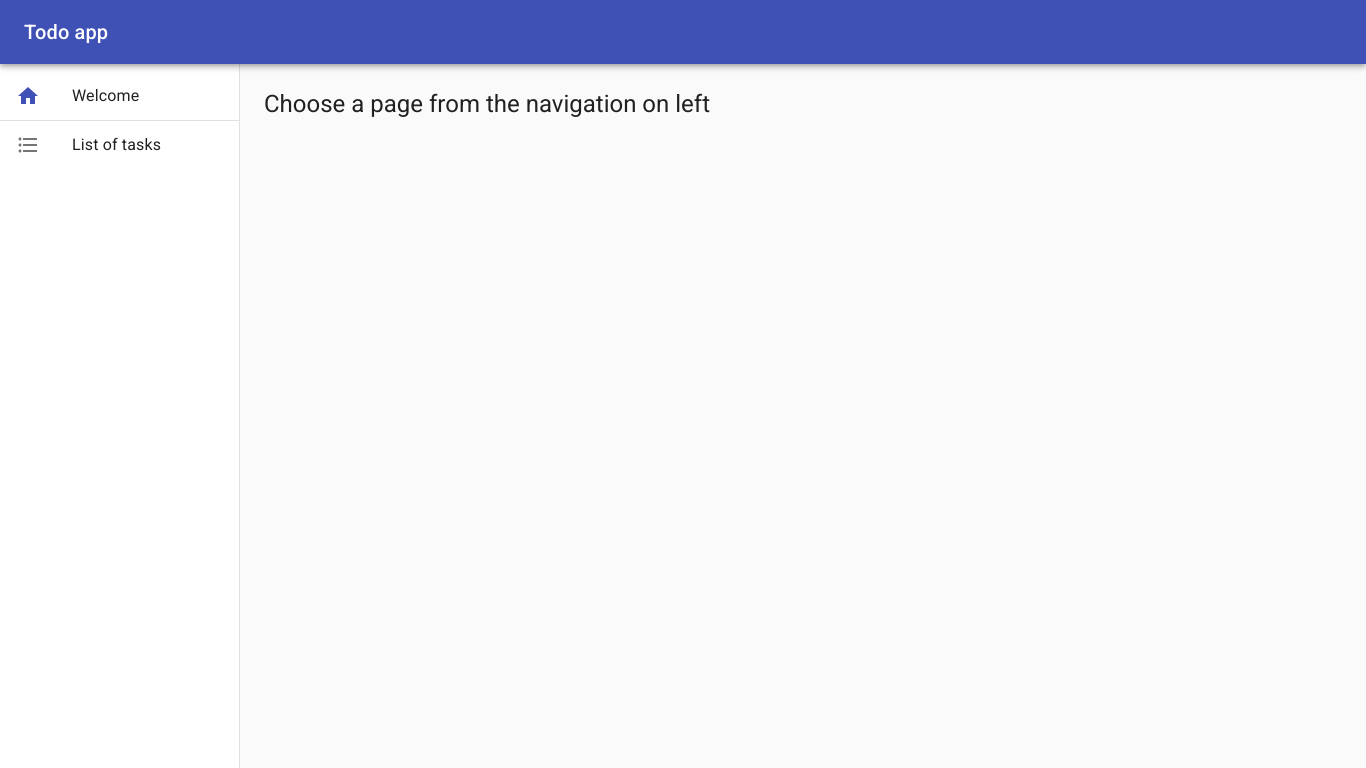
Test case: Task list page testing › The page should contain info about lack of the tasks
Click the link "List of tasks" at (89, 145), box [16,133,161,157]
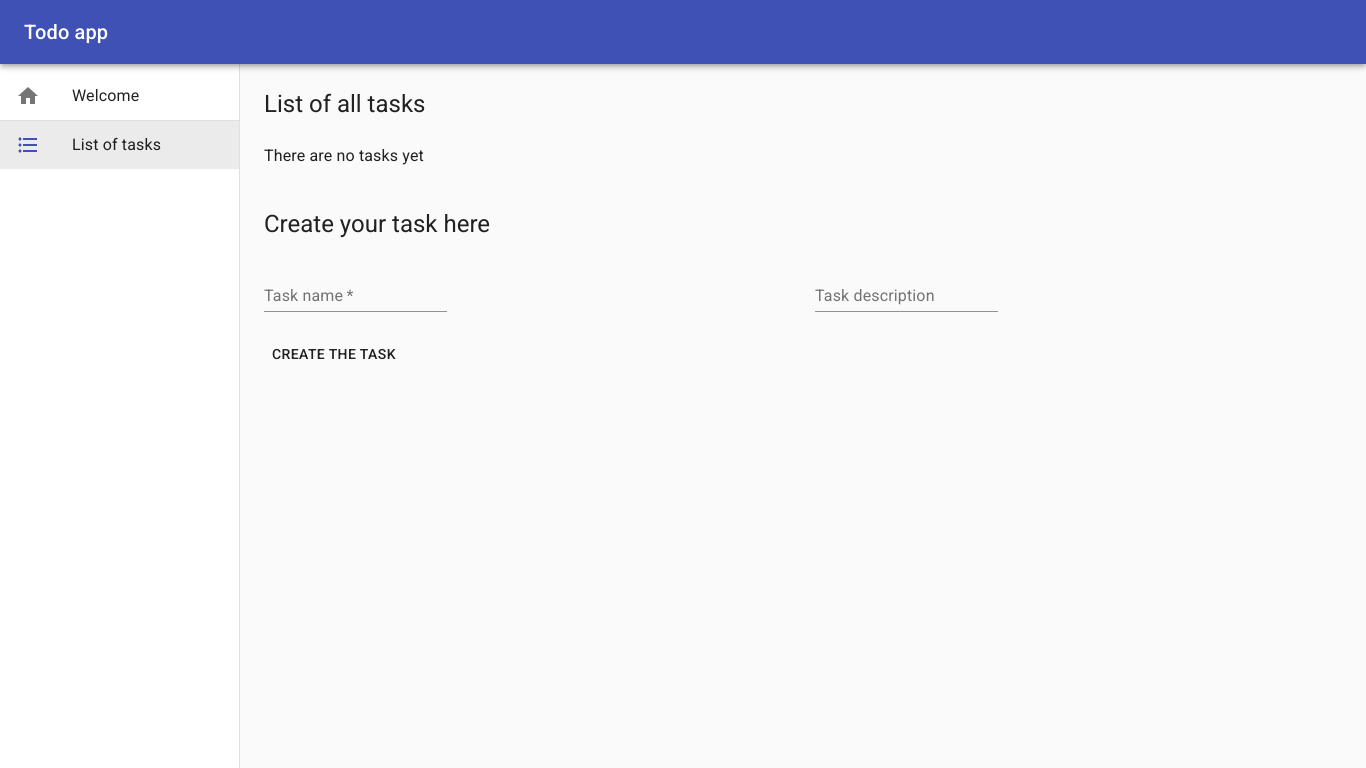
Now the text with test id "main" reads "There are no tasks yet", box [264,146,424,165]
